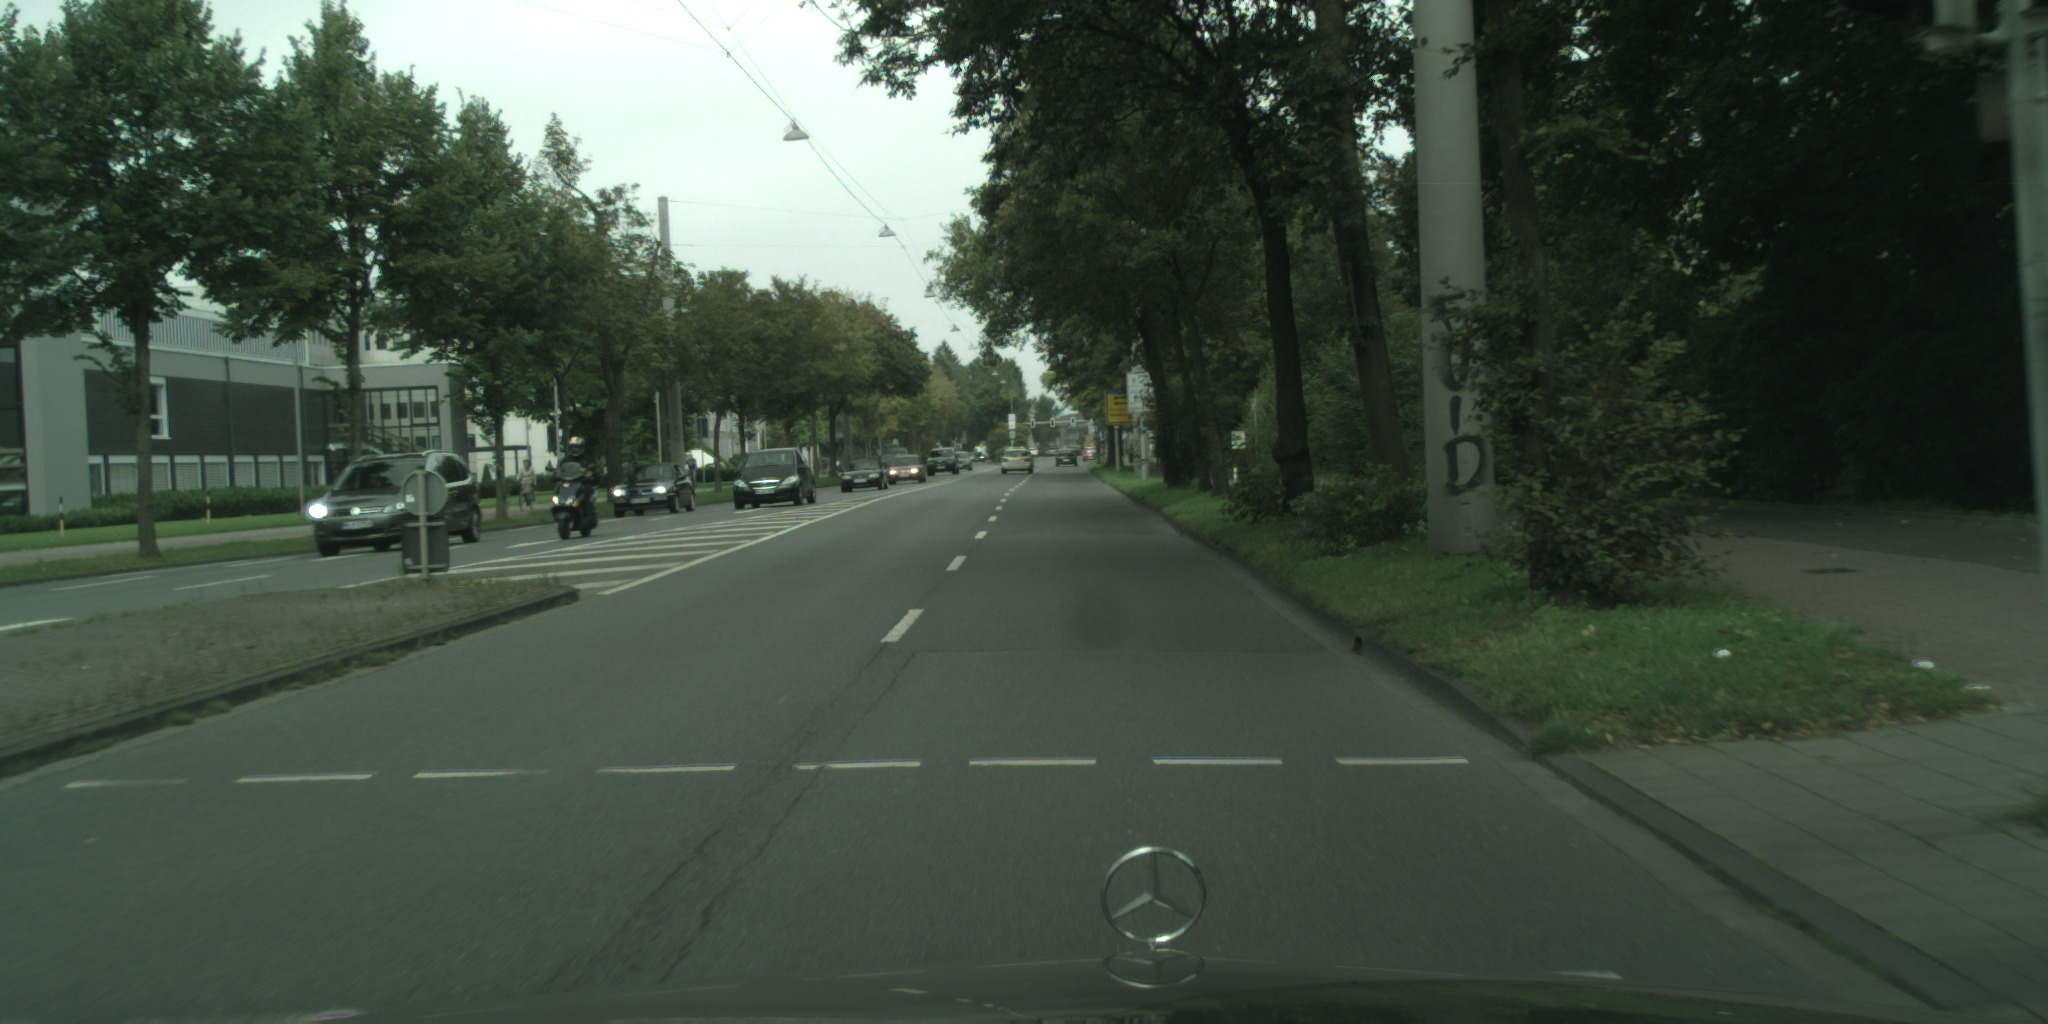car: (312, 450, 482, 557), (731, 448, 816, 511), (612, 463, 695, 518), (840, 458, 888, 492), (883, 454, 926, 485), (926, 448, 959, 476), (1001, 448, 1035, 474), (950, 451, 973, 471), (1055, 449, 1078, 467), (1082, 446, 1097, 462)
motorcycle: (546, 462, 599, 540)
person: (514, 459, 536, 511), (686, 454, 698, 490)
rider: (556, 436, 603, 527)
